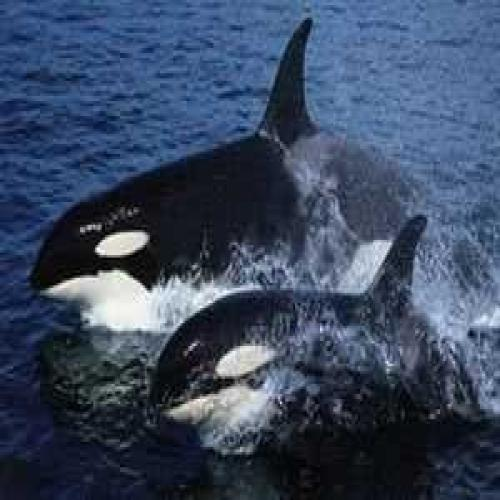killer_whale-endangered: (26, 17, 443, 358), (143, 205, 495, 475)
